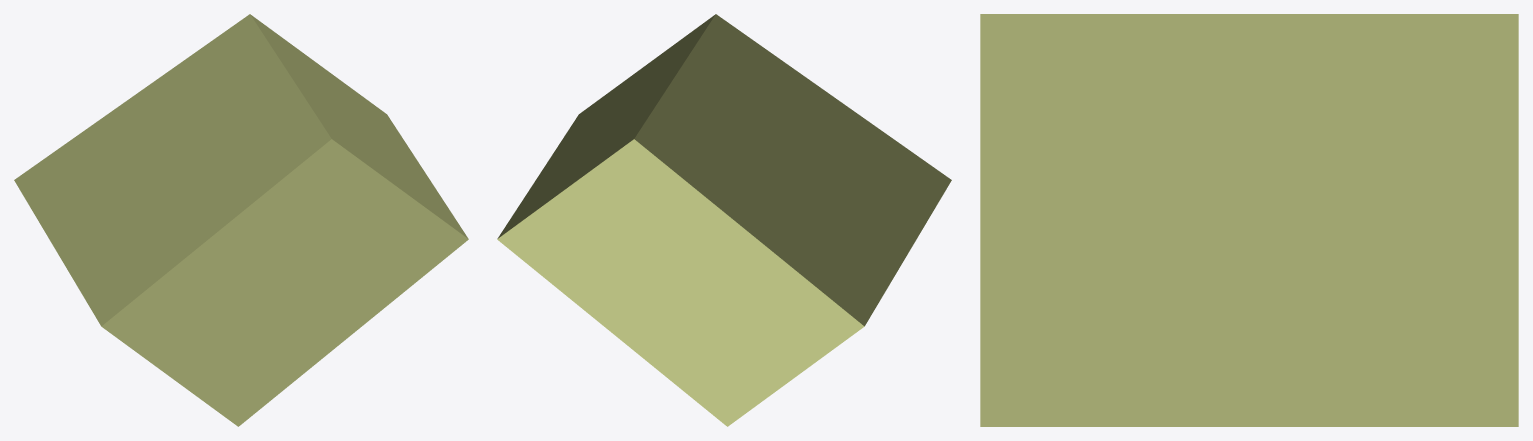
3 views of the same model, side by side, from view 1: azimuth 30°, elevation 25°; view 2: azimuth 150°, elevation 25°; view 3: azimuth 270°, elevation 25° (orthographic). The views are drawn at different scales.
Parts seen in each view (by area): view 1: 0_0_1_1_2_2_1_0_0_0; view 2: 0_0_1_1_2_2_1_0_0_0; view 3: 0_0_1_1_2_2_1_0_0_0.
Part boxes in pixels (x1,y1,x2,y2): 0_0_1_1_2_2_1_0_0_0: [14, 14, 468, 426]; 0_0_1_1_2_2_1_0_0_0: [497, 14, 951, 426]; 0_0_1_1_2_2_1_0_0_0: [980, 14, 1518, 426].
Size of the model in its own units: 12.04 by 10 by 9.
